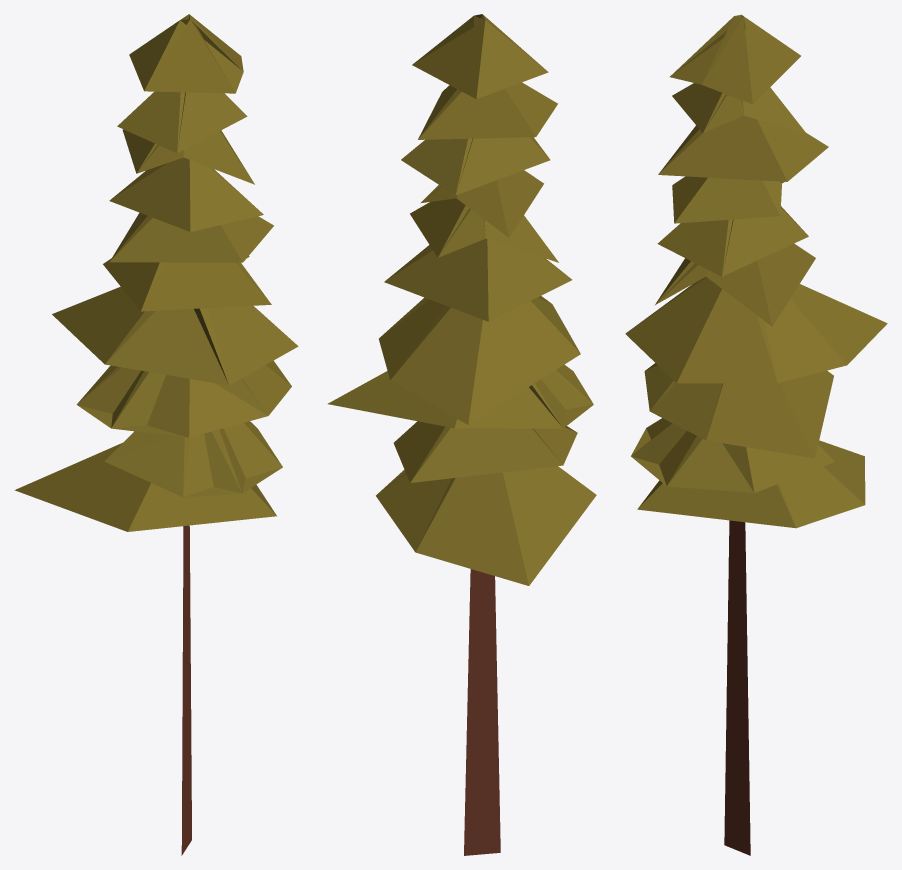
The model's file is pine_healthy_type_1_LOD2.fbx.
3 views of the same model, side by side, from view 1: azimuth 30°, elevation 25°; view 2: azimuth 150°, elevation 25°; view 3: azimuth 270°, elevation 25° (orthographic).
Visible parts, largest first — view 1: pine_trunk.001; view 2: pine_trunk.001; view 3: pine_trunk.001.
Part boxes in pixels (<box>): pine_trunk.001: <box>14,14,298,855</box>; pine_trunk.001: <box>328,14,596,855</box>; pine_trunk.001: <box>625,14,887,855</box>.
Size of the model in its own units: 811 by 2868 by 816.
